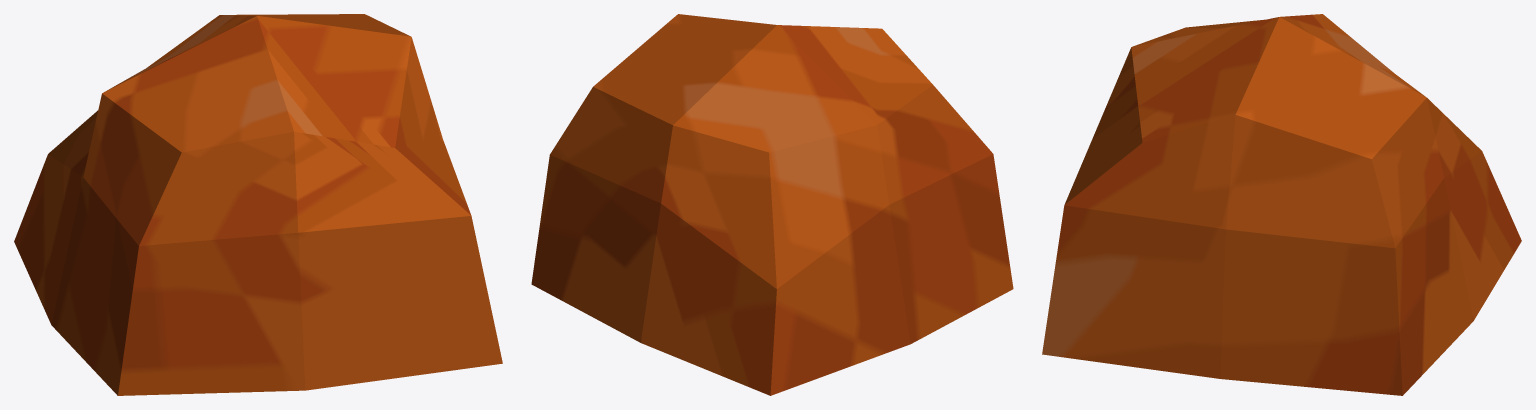
Rendered from Rock.fbx.
3 views of the same model, side by side, from view 1: azimuth 30°, elevation 25°; view 2: azimuth 150°, elevation 25°; view 3: azimuth 270°, elevation 25° (orthographic). The views are drawn at different scales.
Parts seen in each view (by area): view 1: Rock.001; view 2: Rock.001; view 3: Rock.001.
Part boxes in pixels (x1,y1,x2,y2): Rock.001: (14,14,502,395); Rock.001: (531,14,1013,395); Rock.001: (1042,14,1521,395).
Size of the model in its own units: 148 by 101 by 156.
1 material, 1 textured.
